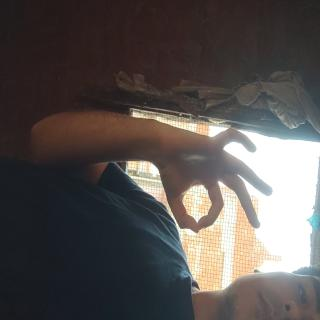Space: (86, 56, 177, 236)
